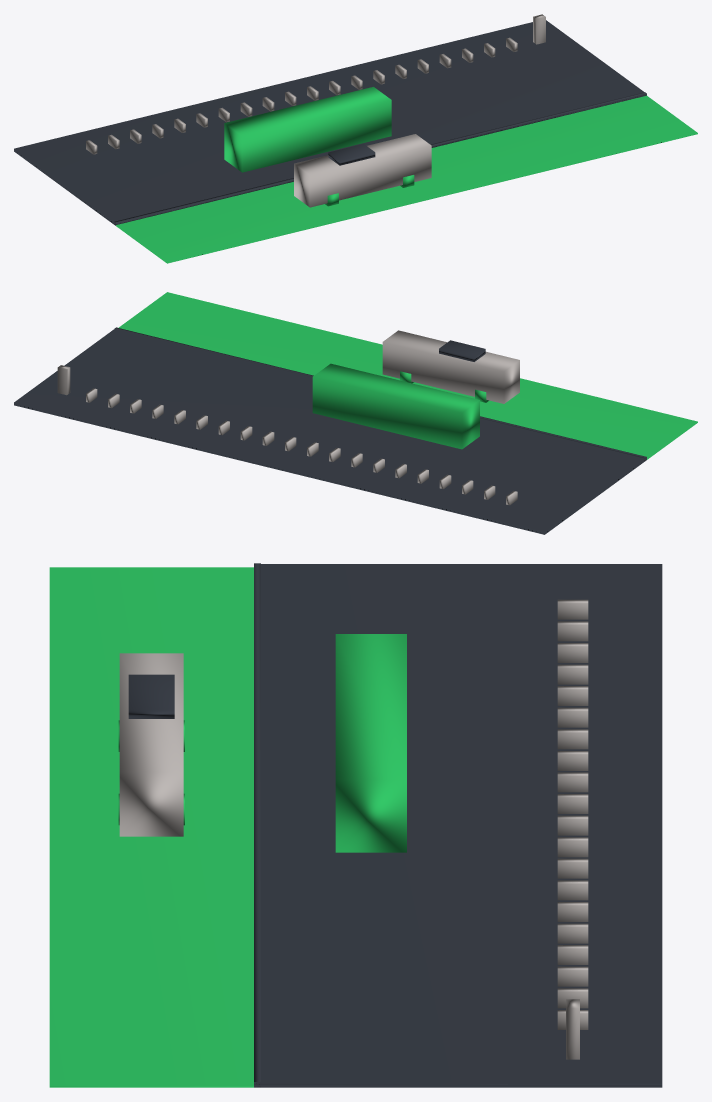
3 views of the same model, one above another, from view 1: azimuth 30°, elevation 25°; view 2: azimuth 150°, elevation 25°; view 3: azimuth 270°, elevation 25° (orthographic). The views are drawn at different scales.
Visible parts, largest first — view 1: plaza_simplified, bus_simplified; view 2: plaza_simplified, bus_simplified; view 3: plaza_simplified, bus_simplified.
Part boxes in pixels (left/top/right/bottom): plaza_simplified: left=14, top=20, right=697, bottom=263; bus_simplified: left=86, top=14, right=545, bottom=207; plaza_simplified: left=14, top=292, right=697, bottom=534; bus_simplified: left=57, top=330, right=519, bottom=505; plaza_simplified: left=49, top=563, right=662, bottom=1087; bus_simplified: left=118, top=599, right=588, bottom=1059.
Bounding box in the file's own units: 48 × 3.58 × 24.
Materials: 2 (2 with a texture image).
